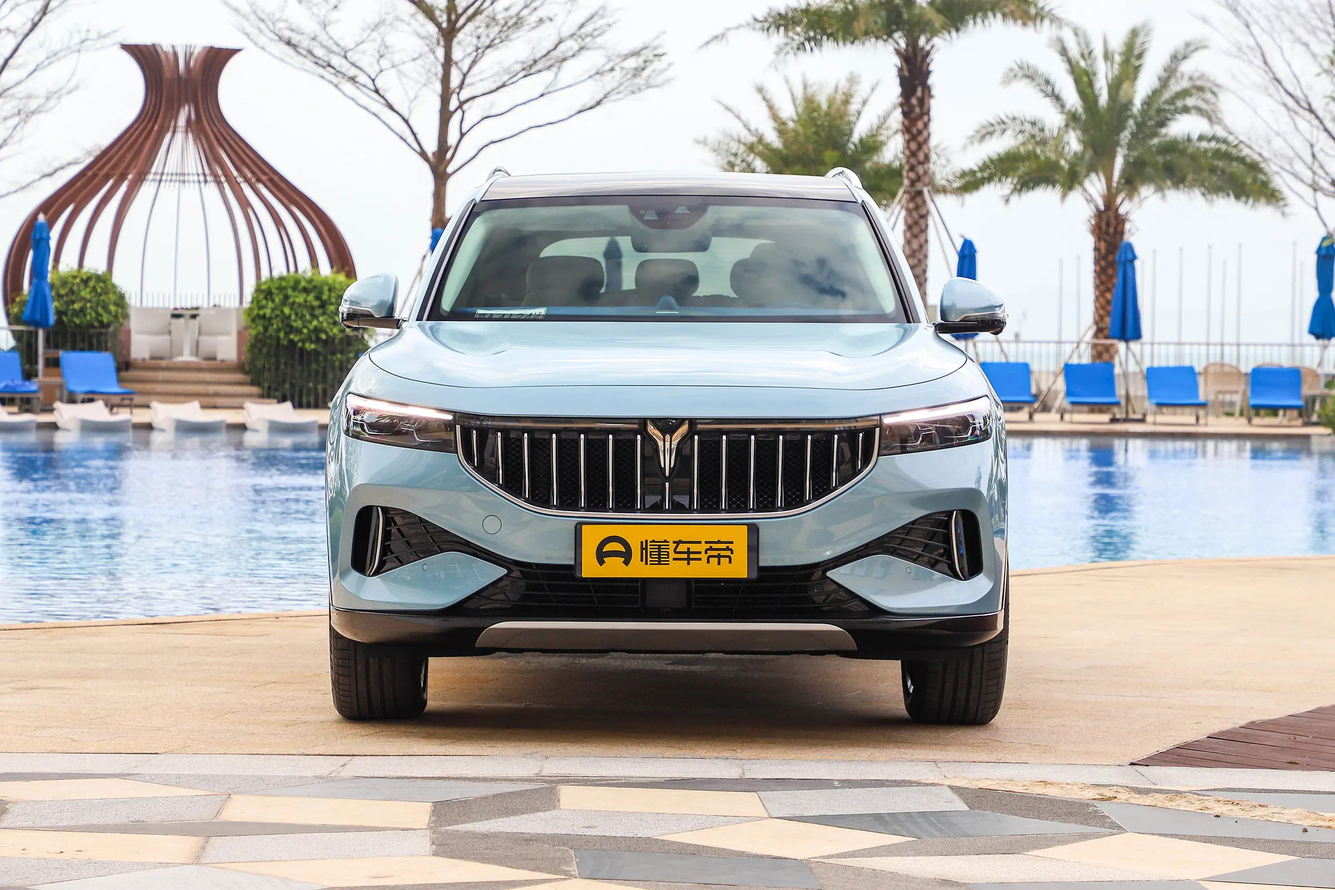VOYAH: (647, 419, 688, 474)
